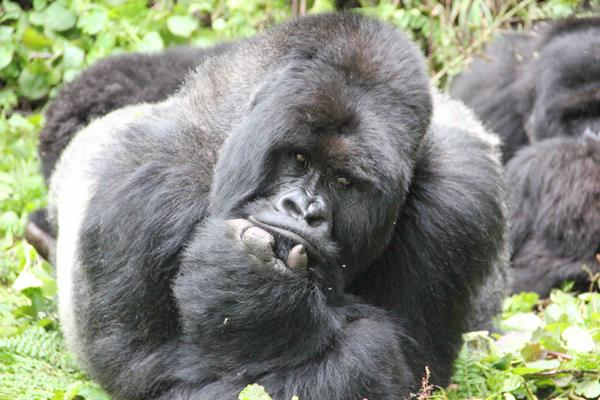Goriila: (33, 26, 525, 400)
